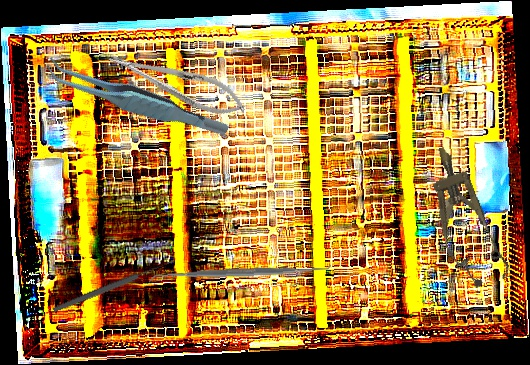Needle Holder: (103, 40, 252, 125)
Spatula Surgical: (148, 259, 332, 287)
Speculum: (415, 138, 514, 294)
Surgical Spoon: (52, 258, 175, 314)
Tissue Forceps: (41, 25, 231, 173)
